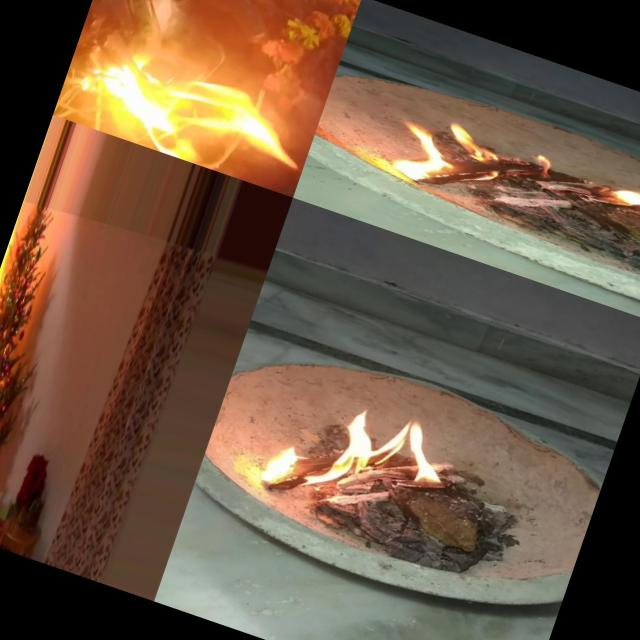fire: (235, 371, 470, 548), (390, 106, 560, 222), (0, 203, 34, 492), (591, 166, 640, 222)
